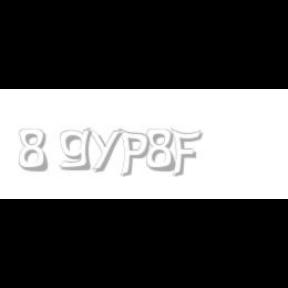8: (18, 128, 48, 172), (146, 128, 176, 172)
F: (170, 128, 202, 178)
P: (118, 128, 150, 178)
g: (60, 128, 96, 171)
y: (86, 128, 126, 172)
